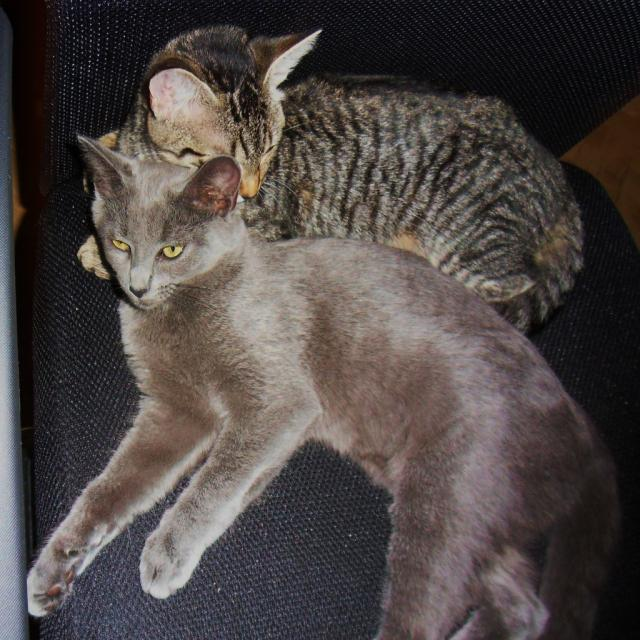Cat: (26, 132, 628, 640), (76, 24, 584, 338)
